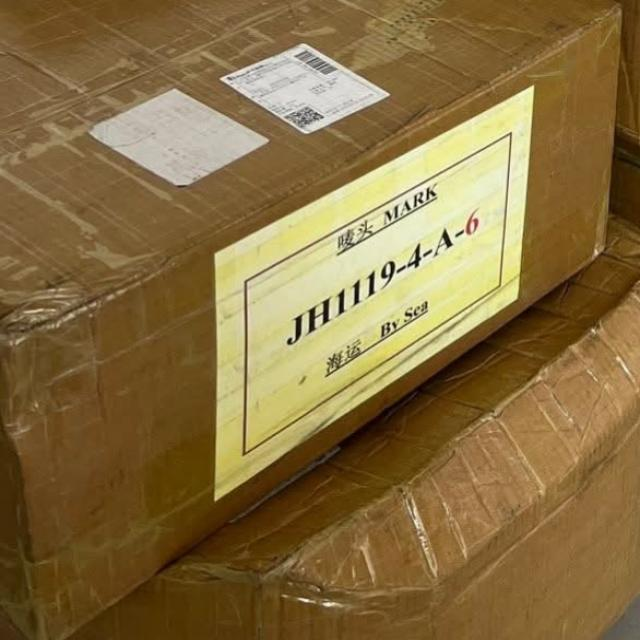carton_box: (0, 0, 628, 634)
export_mark_label: (208, 88, 546, 524), (222, 35, 411, 141)
package_damage: (244, 562, 379, 620), (2, 281, 90, 350)
